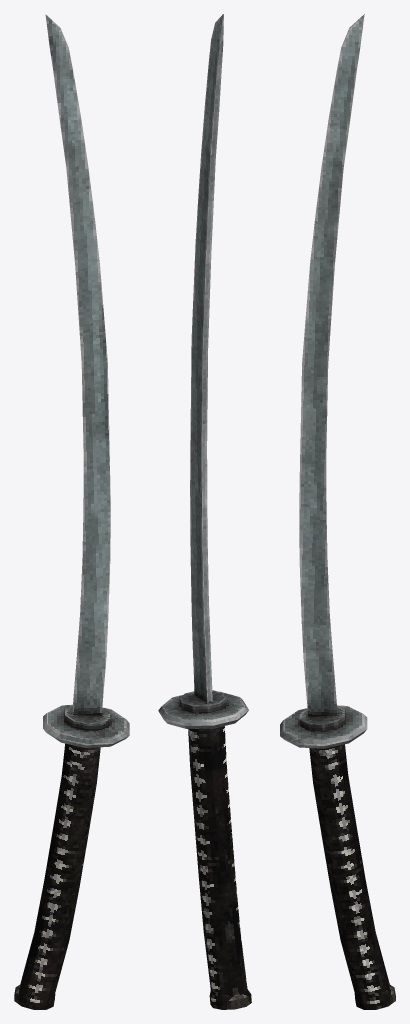
Rendered from Katana.glb.
The picture shows the model from 3 angles, left to right: view 1: azimuth 90°, elevation 25°; view 2: azimuth 210°, elevation 25°; view 3: azimuth 270°, elevation 25°; orthographic projection.
Parts seen in each view (by area): view 1: Katana; view 2: Katana; view 3: Katana.
Part boxes in pixels (box(x1,y1,x2,y2)): Katana: box(14, 14, 129, 1009); Katana: box(158, 14, 251, 1009); Katana: box(280, 14, 395, 1009).
Bounding box in the file's own units: 0.0609 × 0.724 × 0.0767.
Materials: 1 (1 with a texture image).
